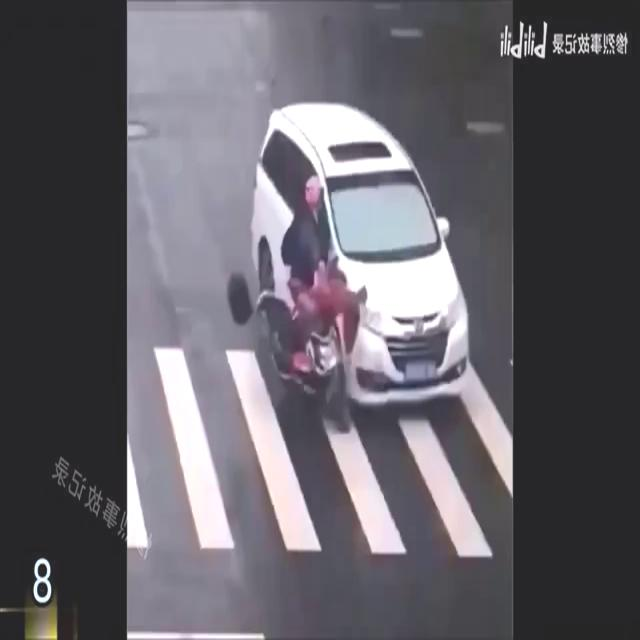accident: (224, 100, 472, 436)
